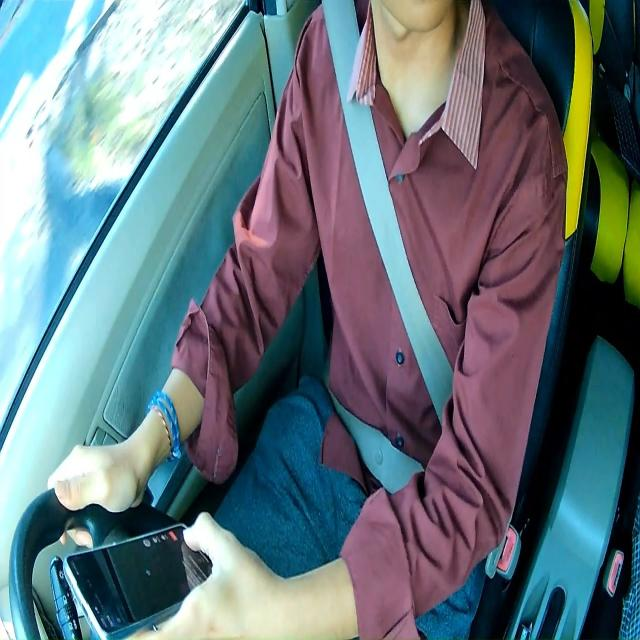phone: (63, 520, 214, 640)
